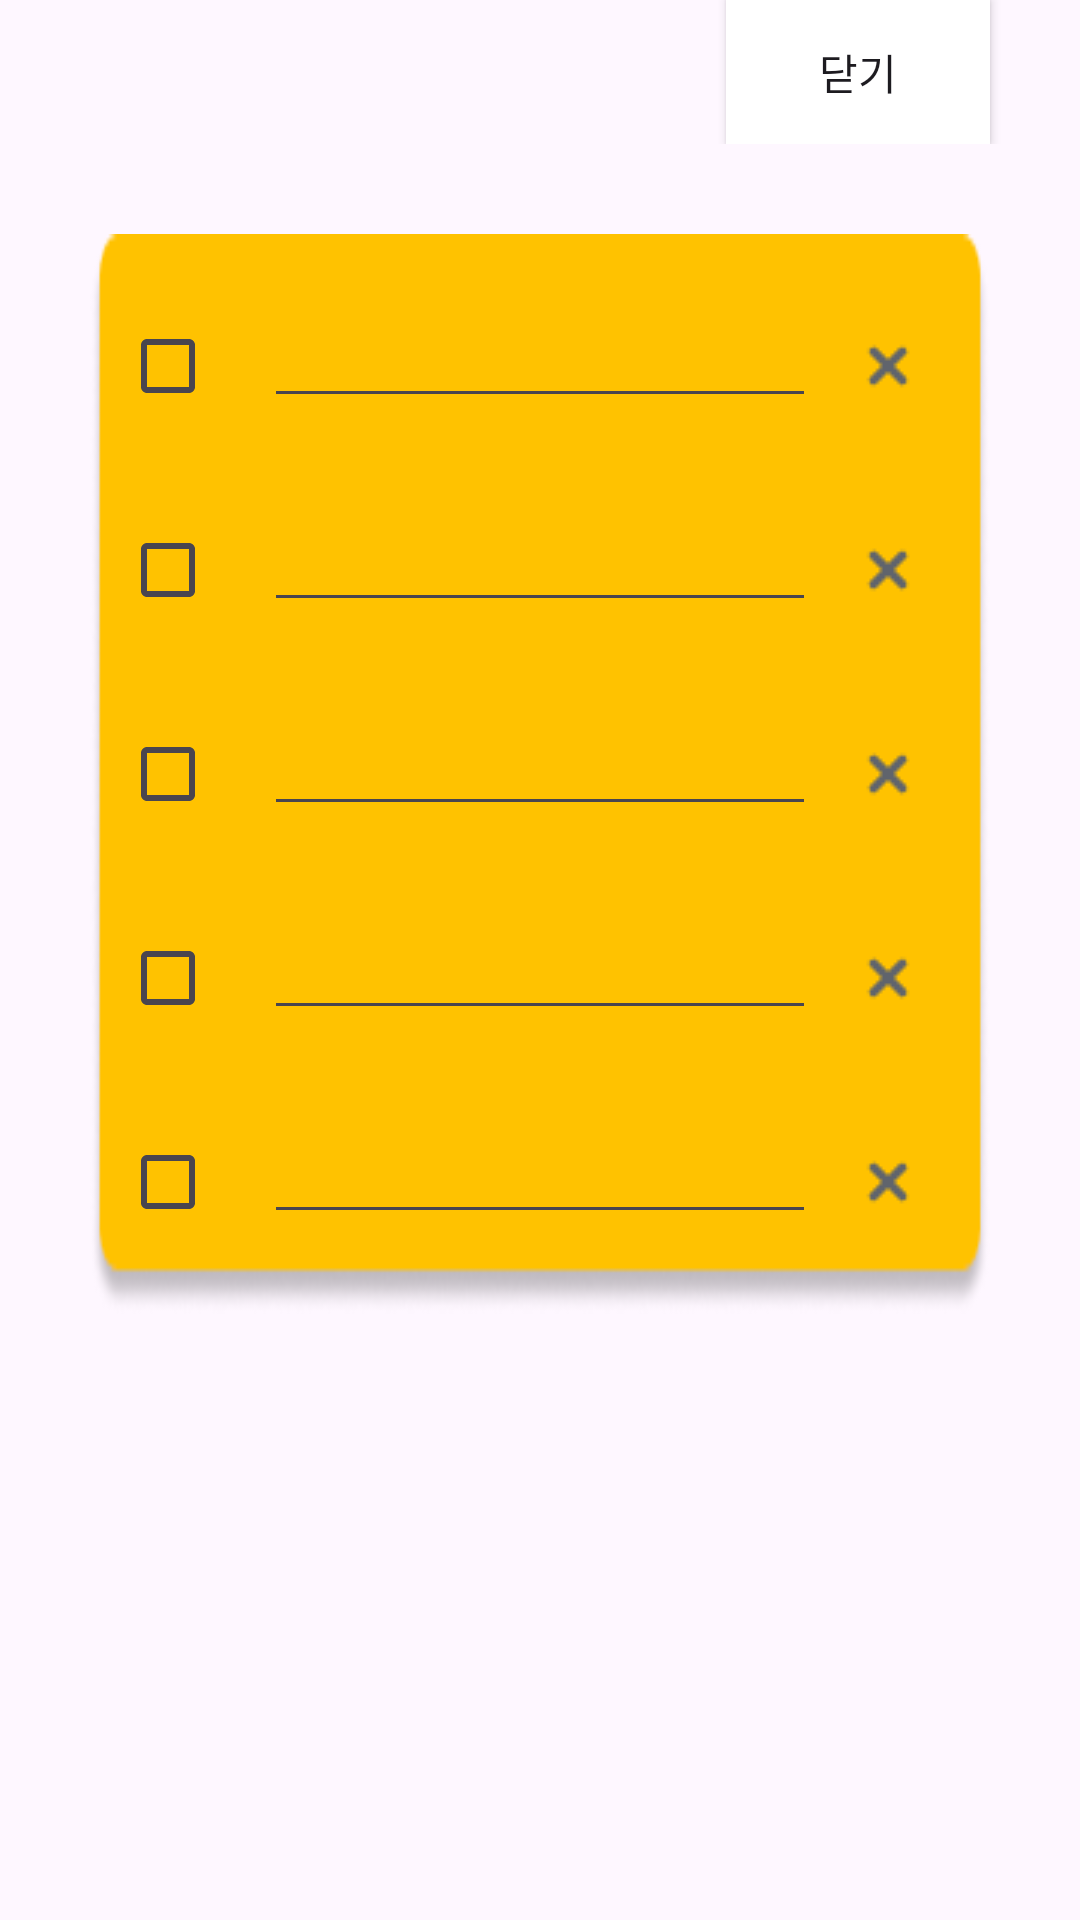

Where to tap for icons on this 1080 x 1920 app screen, as [x,y]:
memodelete: [888,366], [888,570], [888,774], [888,978], [888,1182]
